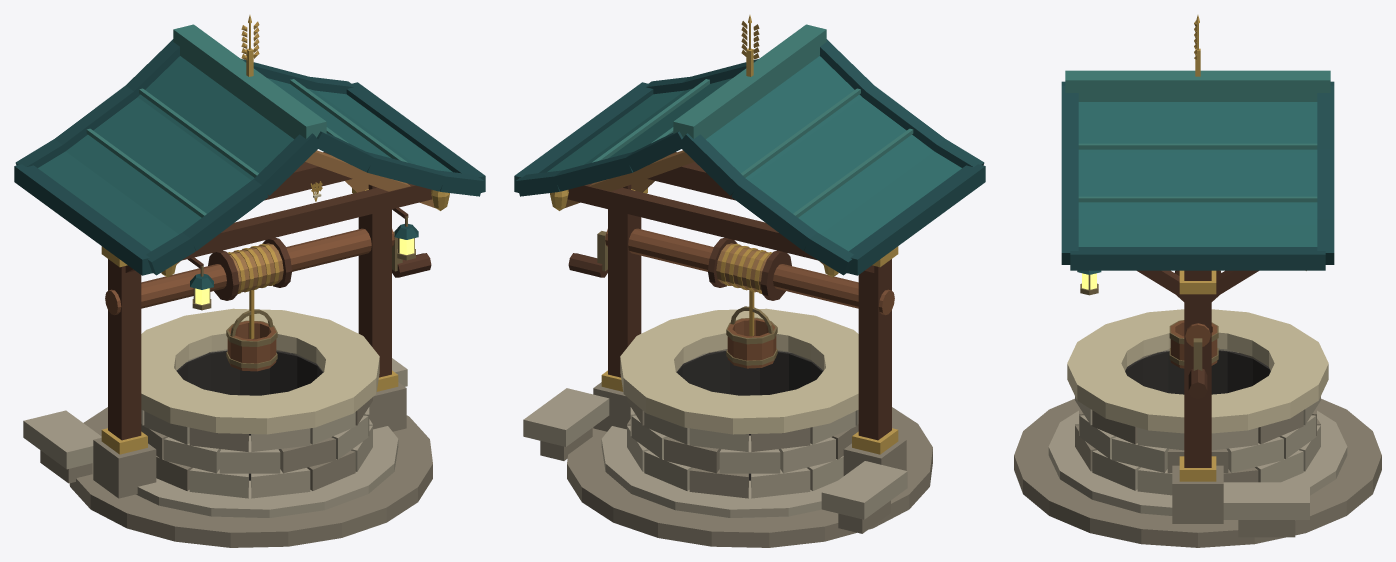
The model's file is town-well.glb.
The picture shows the model from 3 angles, left to right: view 1: azimuth 30°, elevation 25°; view 2: azimuth 150°, elevation 25°; view 3: azimuth 270°, elevation 25°; orthographic projection.
Visible parts, largest first — view 1: town-well; view 2: town-well; view 3: town-well.
Boxes of the visible parts, left/top/right/bottom form: town-well: left=14, top=15, right=485, bottom=547; town-well: left=514, top=15, right=985, bottom=547; town-well: left=1014, top=15, right=1381, bottom=547.
Bounding box in the file's own units: 4.09 × 5.12 × 3.74.
